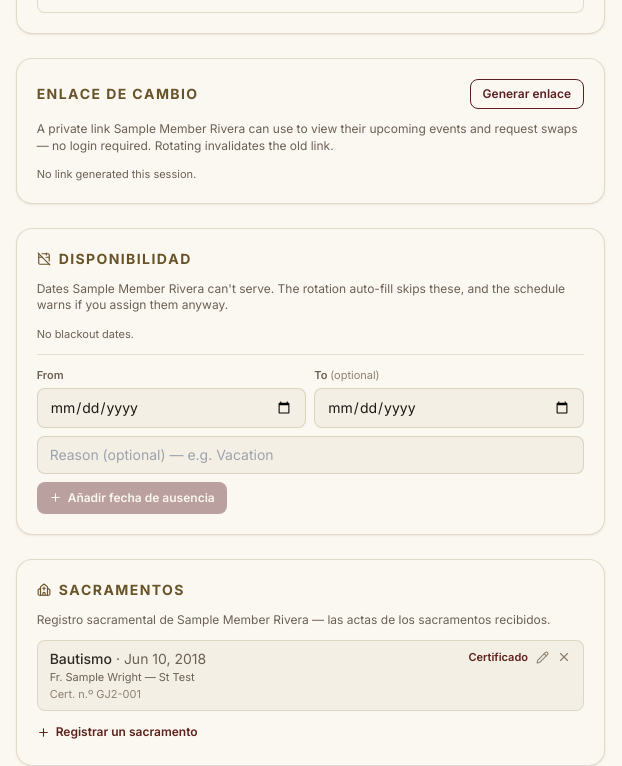
Scenario: GJ2-L1-03 certificate-path chrome › ES write-form: subtitle / Certificado n.º / Bautismo — not Certificate #
(page scrolled)
Check: the text "Bautismo" is shown, box [50,650,112,667]
Click the button "Registrar un sacramento" at {"x": 117, "y": 732}, box [37,723,198,741]
(page scrolled)
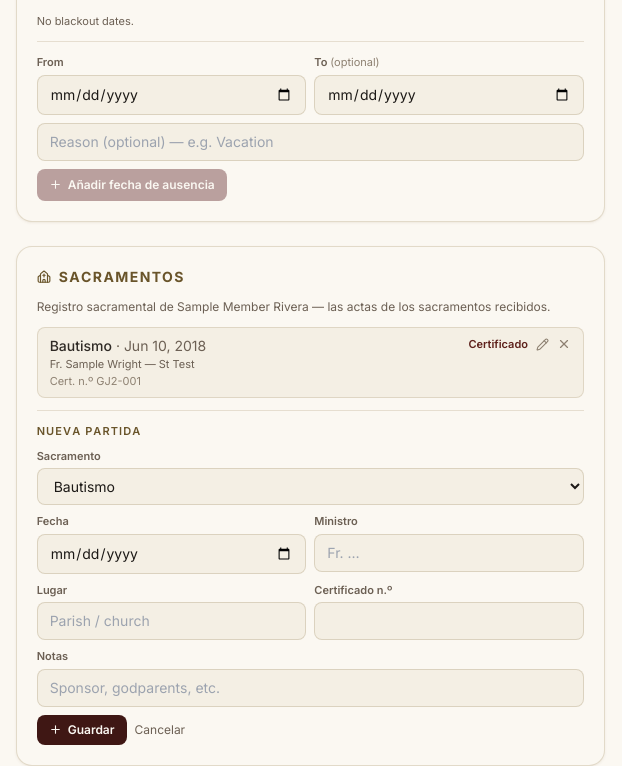
Check: the text "Certificado n.º" is shown, box [314,583,392,597]
